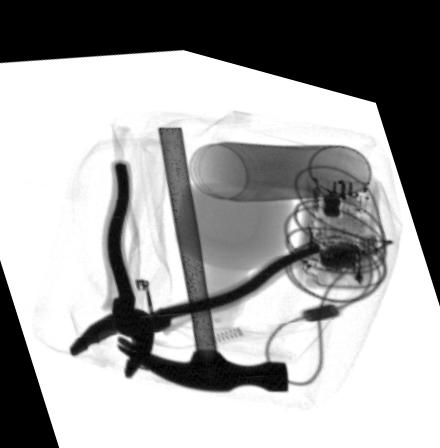Hammer: (116, 118, 288, 381)
Pliers: (69, 150, 321, 372)
